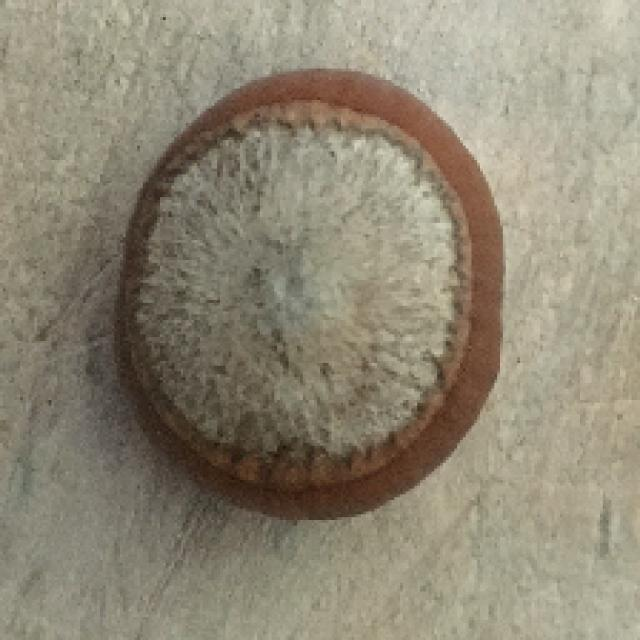QualityHazelnut: (110, 63, 506, 521)
